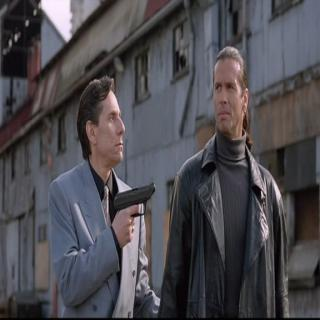gun: (110, 178, 156, 248)
